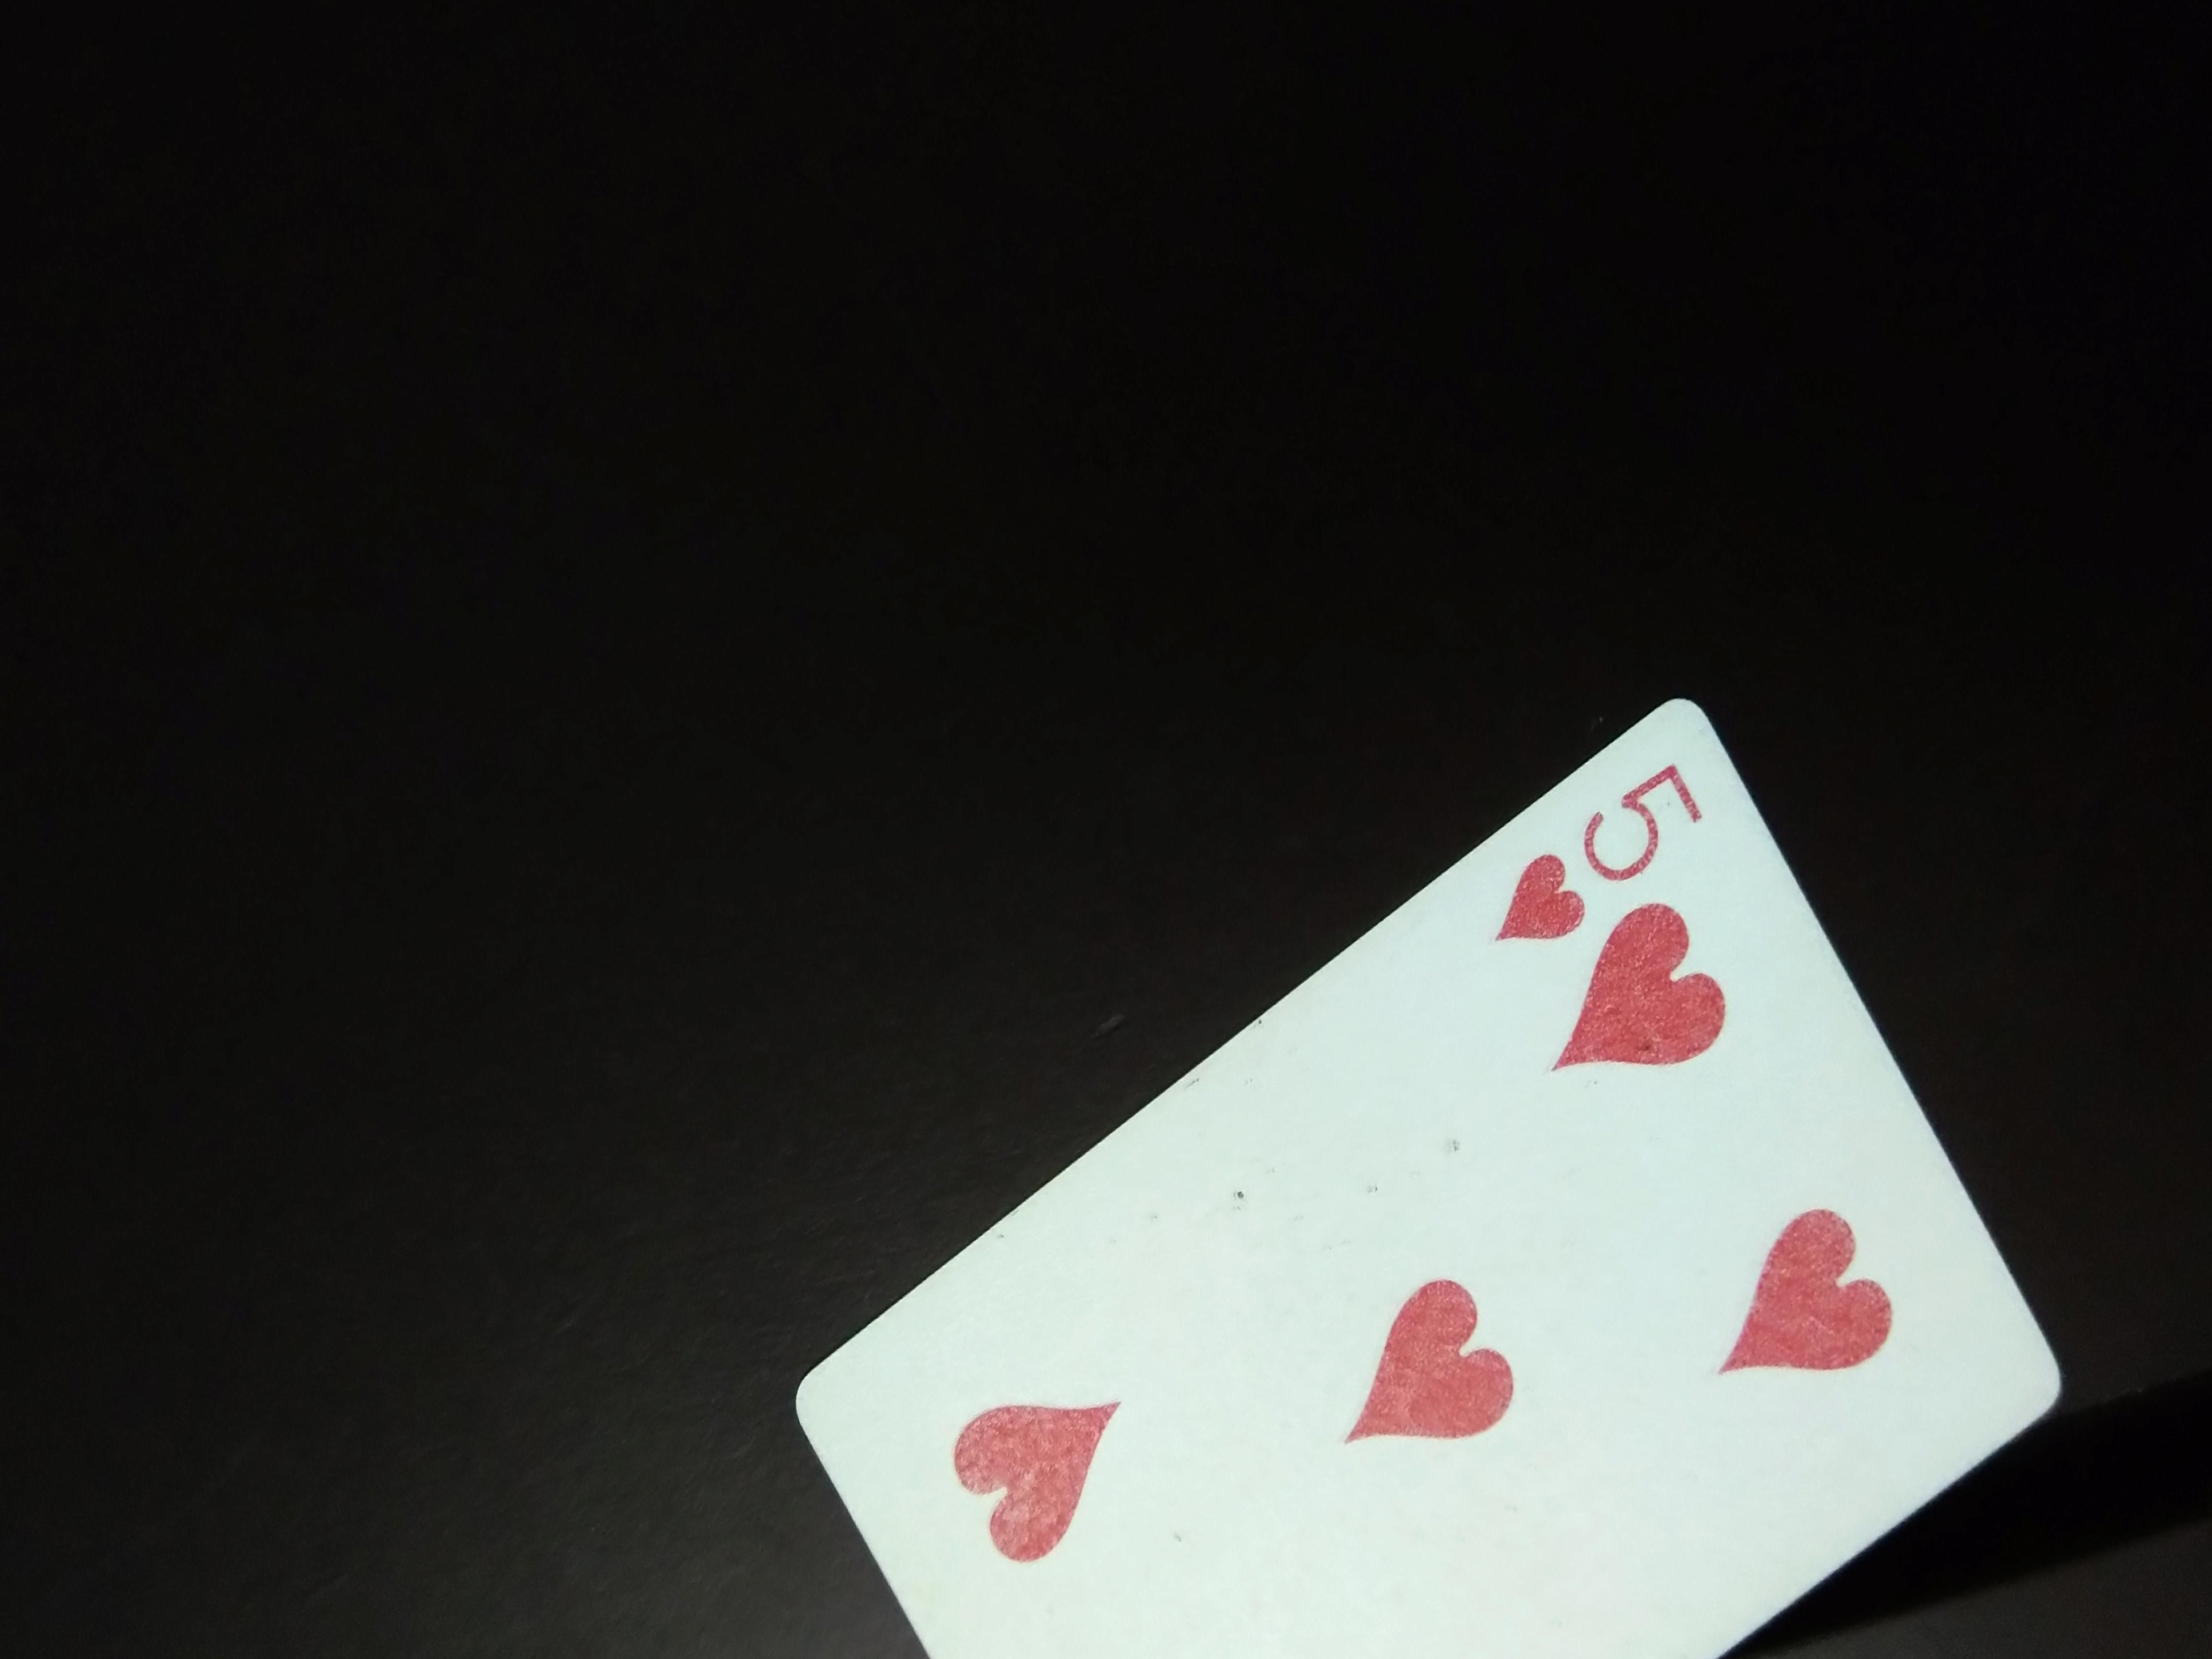5H: (1474, 753, 1719, 985)
